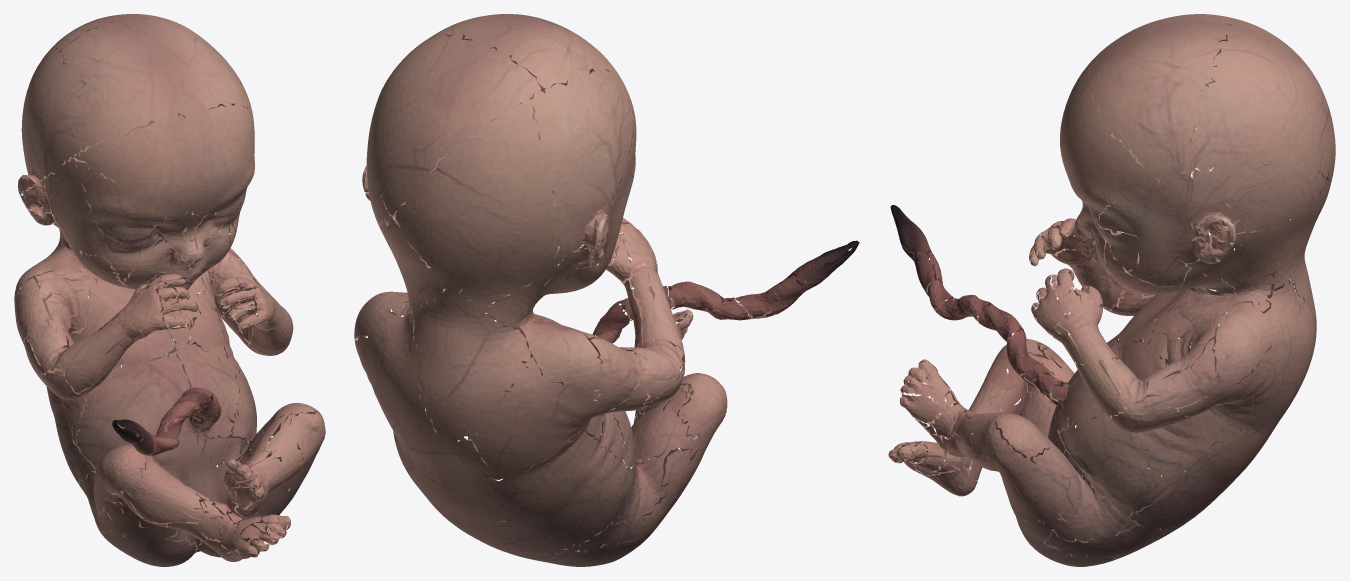
Rendered from semaine-14.glb.
The picture shows the model from 3 angles, left to right: view 1: azimuth 30°, elevation 25°; view 2: azimuth 150°, elevation 25°; view 3: azimuth 270°, elevation 25°; orthographic projection. The views are drawn at different scales.
Size of the model in its own units: 1.24 by 2 by 1.55.
1 material, 1 textured.
